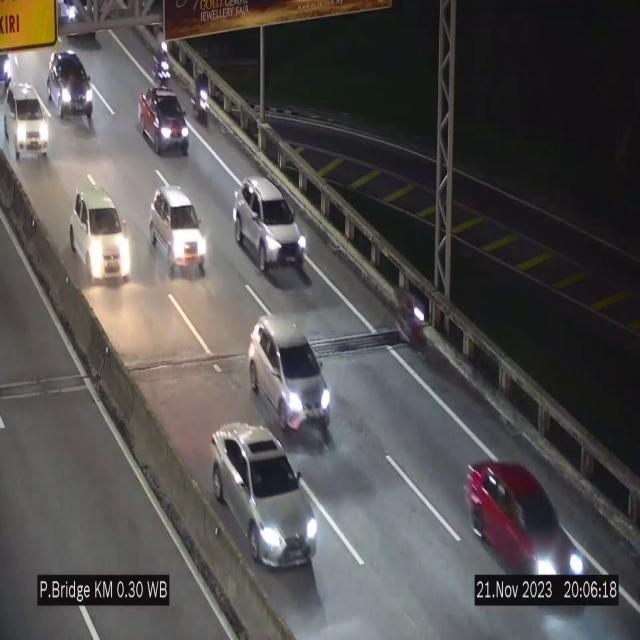Car: (210, 422, 316, 566), (466, 457, 585, 574), (248, 317, 332, 440), (232, 178, 308, 280), (148, 182, 210, 288), (76, 194, 135, 286), (0, 81, 52, 162), (45, 54, 95, 126), (138, 86, 188, 156)
Motorcycle: (400, 286, 426, 358), (194, 67, 214, 129), (154, 40, 170, 82)
